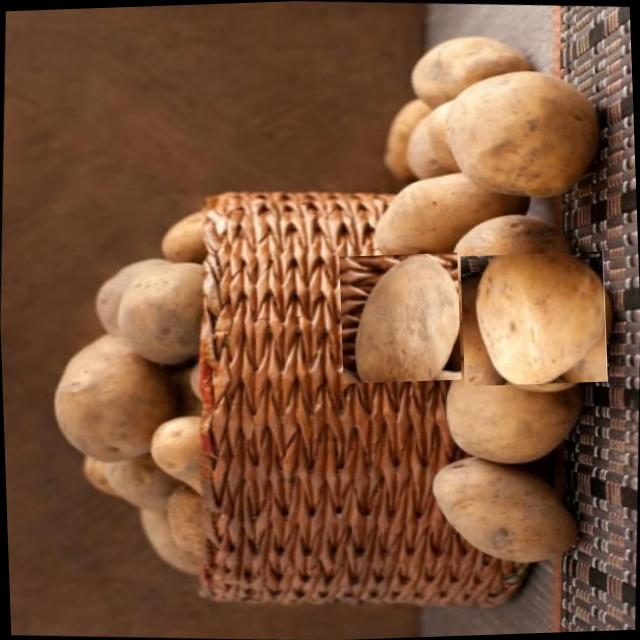potato: (438, 69, 610, 193), (463, 248, 604, 389), (336, 254, 464, 380)
